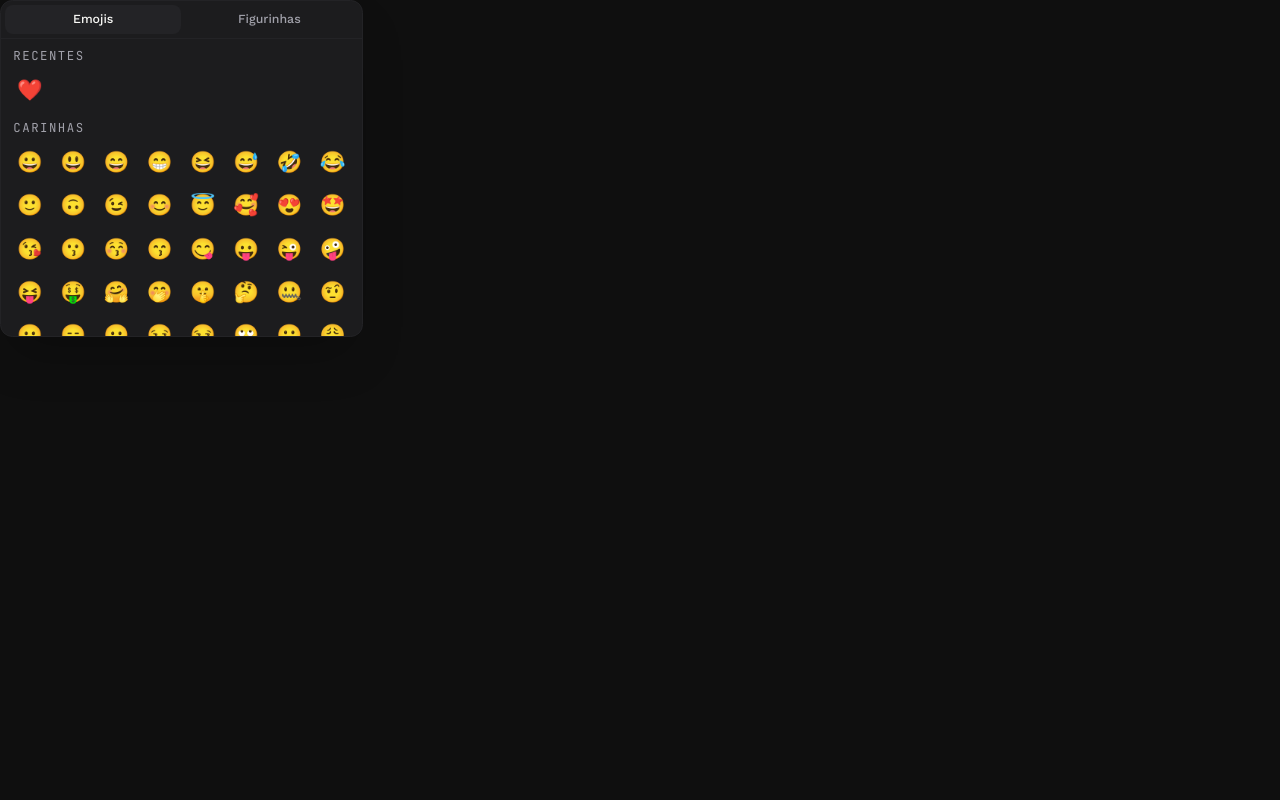
Test: EmojiStickerPicker › sem figurinhas ainda, explica de onde elas vêm
The width and height of the screenshot is (1280, 800).
Click the button "Figurinhas". click: click(269, 20)
box: left=181, top=5, right=358, bottom=34
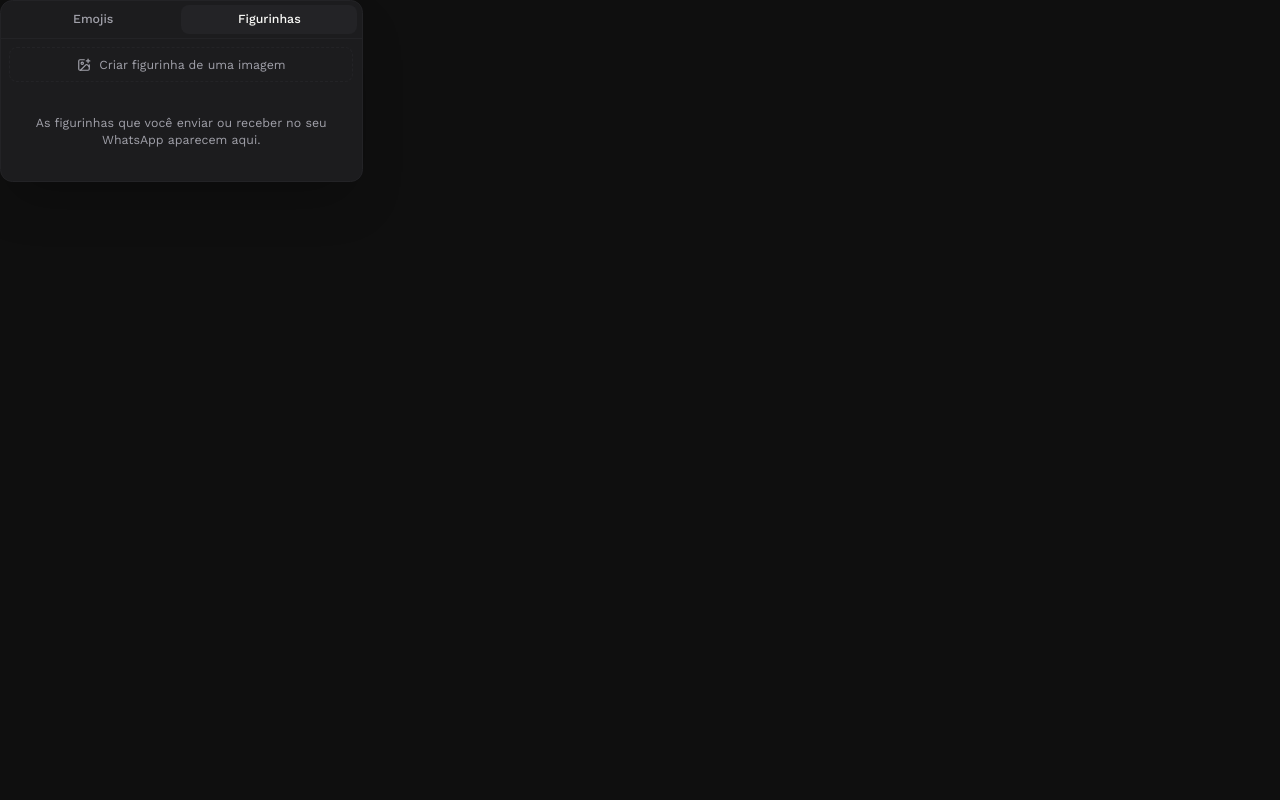
Check: the text "As figurinhas que você enviar ou receber no seu WhatsApp aparecem aqui." is shown, box left=36, top=116, right=327, bottom=147
